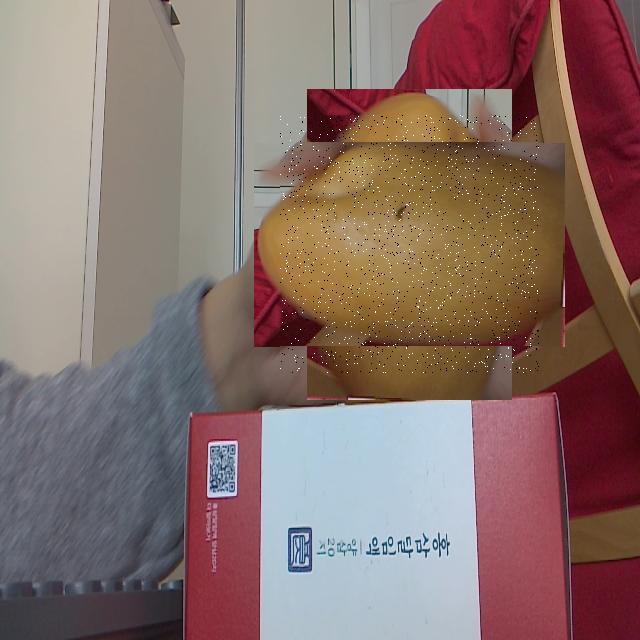pear: (280, 115, 539, 374)
